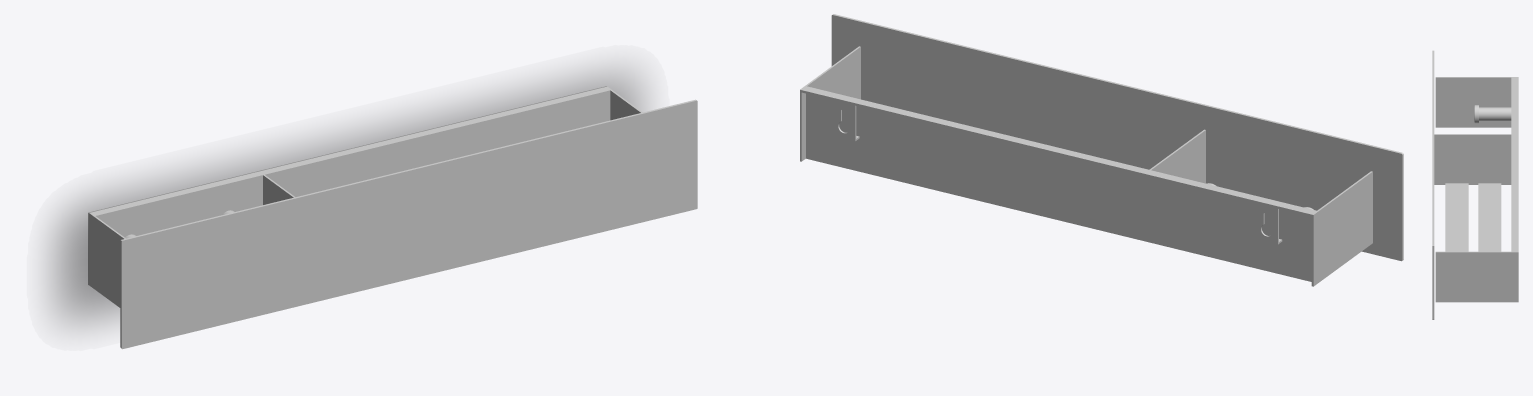
The model's file is skyline-patron.5d1221a854.ar.glb.
The picture shows the model from 3 angles, left to right: view 1: azimuth 30°, elevation 25°; view 2: azimuth 150°, elevation 25°; view 3: azimuth 270°, elevation 25°; orthographic projection. The views are drawn at different scales.
Parts seen in each view (by area): view 1: NAUO1, object 2; view 2: NAUO1; view 3: NAUO1.
Part boxes in pixels (bbox=[...]): NAUO1: bbox=[88, 86, 697, 349]; object 2: bbox=[49, 70, 646, 325]; NAUO1: bbox=[800, 14, 1403, 286]; NAUO1: bbox=[1432, 50, 1518, 319].
Bounding box in the file's own units: 0.58 × 0.17 × 0.0935.
Materials: 2 (1 with a texture image).
